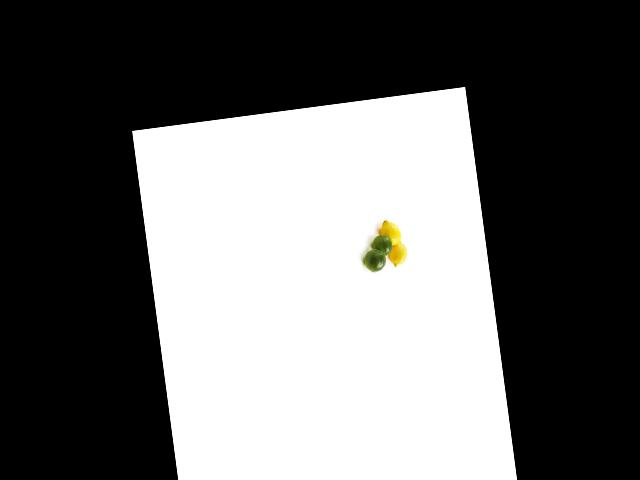lemon: (362, 247, 388, 276)
